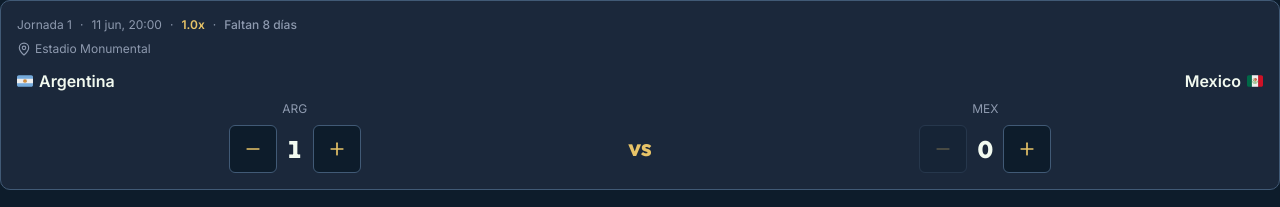
Test: MatchCard › limpia un error definitivo cuando el usuario vuelve al ultimo valor guardado
The width and height of the screenshot is (1280, 207).
Click the button named "Incrementar goles de Argentina": (337, 149) top-left (313, 125), bottom-right (361, 173)
Wait 1500 ms
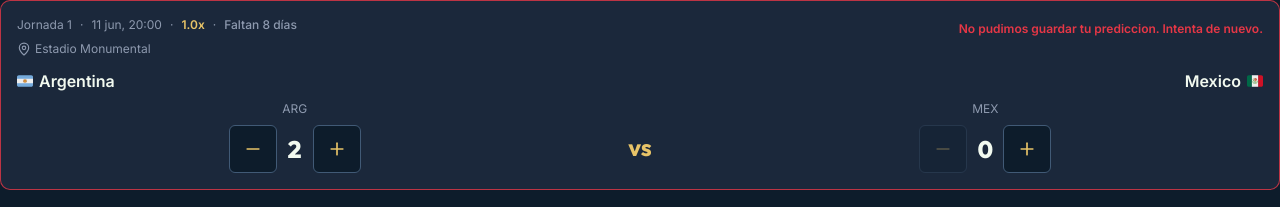
Check: the text "No pudimos guardar tu prediccion. Intenta de nuevo." is shown, box top-left (959, 21), bottom-right (1263, 37)
Click the button named "Disminuir goles de Argentina": (253, 149) top-left (229, 125), bottom-right (277, 173)
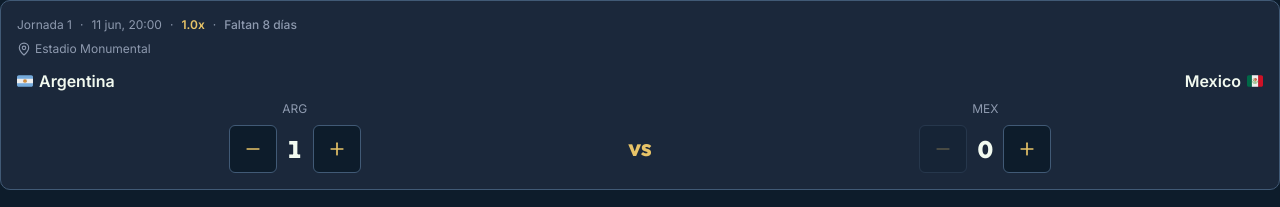
Check: the text "No pudimos guardar tu prediccion. Intenta de nuevo." is gone
